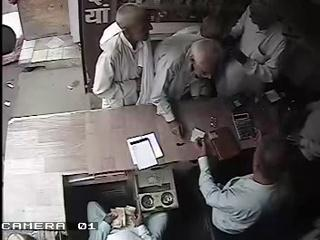Normal: (196, 130, 296, 240), (148, 12, 224, 140)
shoplifting: (92, 2, 154, 110)
